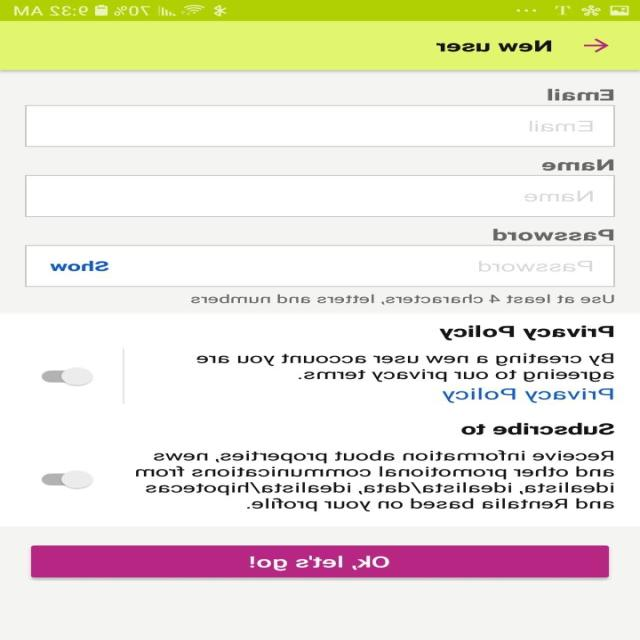EditText: (25, 174, 616, 217), (26, 104, 616, 147), (26, 244, 616, 287)
Icon: (583, 38, 609, 52)
Text: (136, 450, 615, 512), (196, 352, 614, 382), (191, 294, 615, 304), (439, 324, 614, 341), (442, 388, 614, 403), (461, 422, 615, 435), (492, 228, 614, 241), (436, 40, 552, 52), (478, 260, 592, 272), (542, 159, 614, 171), (548, 88, 614, 101), (524, 190, 594, 202), (530, 120, 594, 132), (51, 260, 110, 271)
TextButton: (32, 544, 609, 577)
